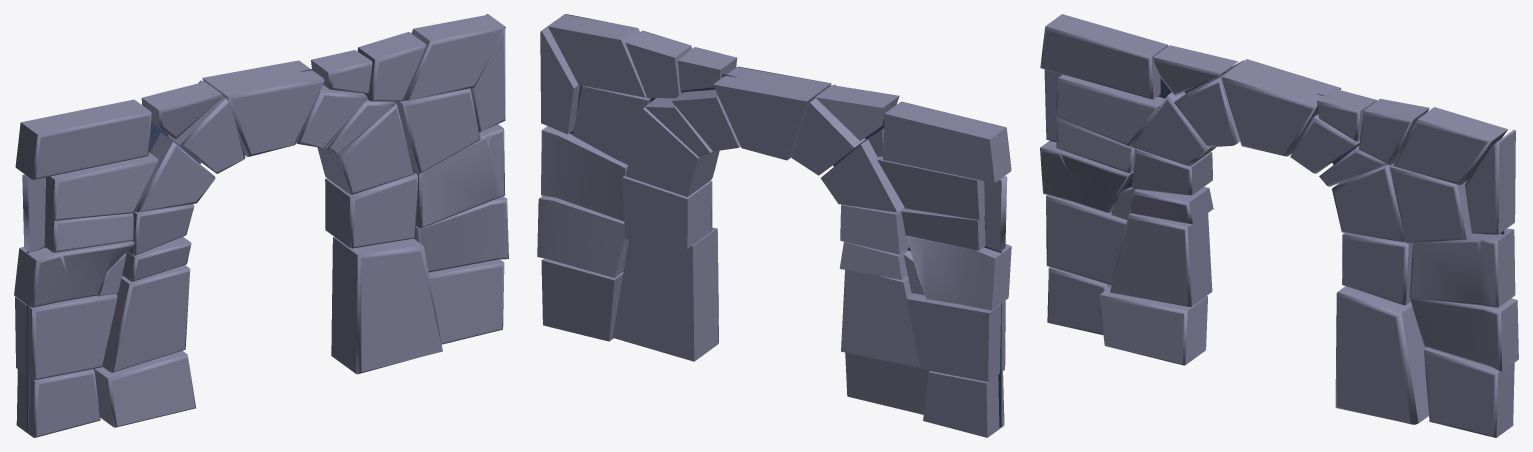
The model's file is Door_arch_small wall.fbx.
3 renders of one model, left to right at view 1: azimuth 30°, elevation 25°; view 2: azimuth 150°, elevation 25°; view 3: azimuth 330°, elevation 25°, orthographic. The views are drawn at different scales.
Parts seen in each view (by area): view 1: Cube.002; view 2: Cube.002; view 3: Cube.002.
Boxes of the visible parts, x1,y1,x2,y2 form: Cube.002: (14,14,508,437); Cube.002: (537,14,1011,437); Cube.002: (1040,14,1518,437).
Bounding box in the file's own units: 616 × 385 × 85.78.
